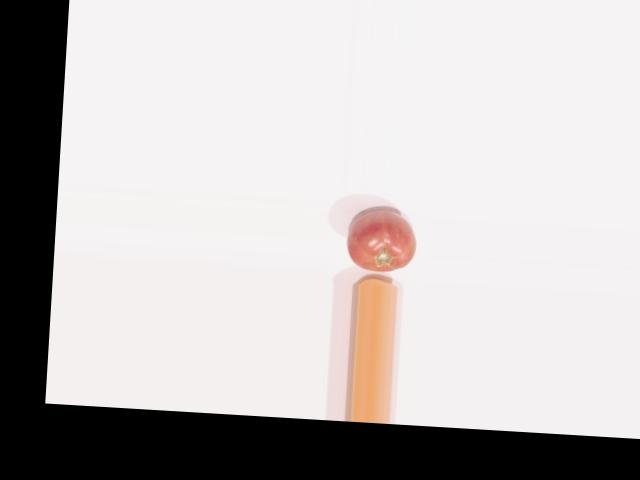tomato: (346, 209, 418, 273)
